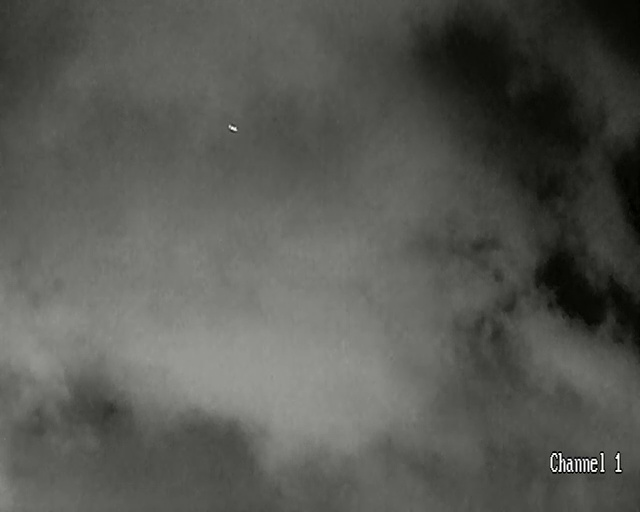uav: (228, 123, 237, 131)
